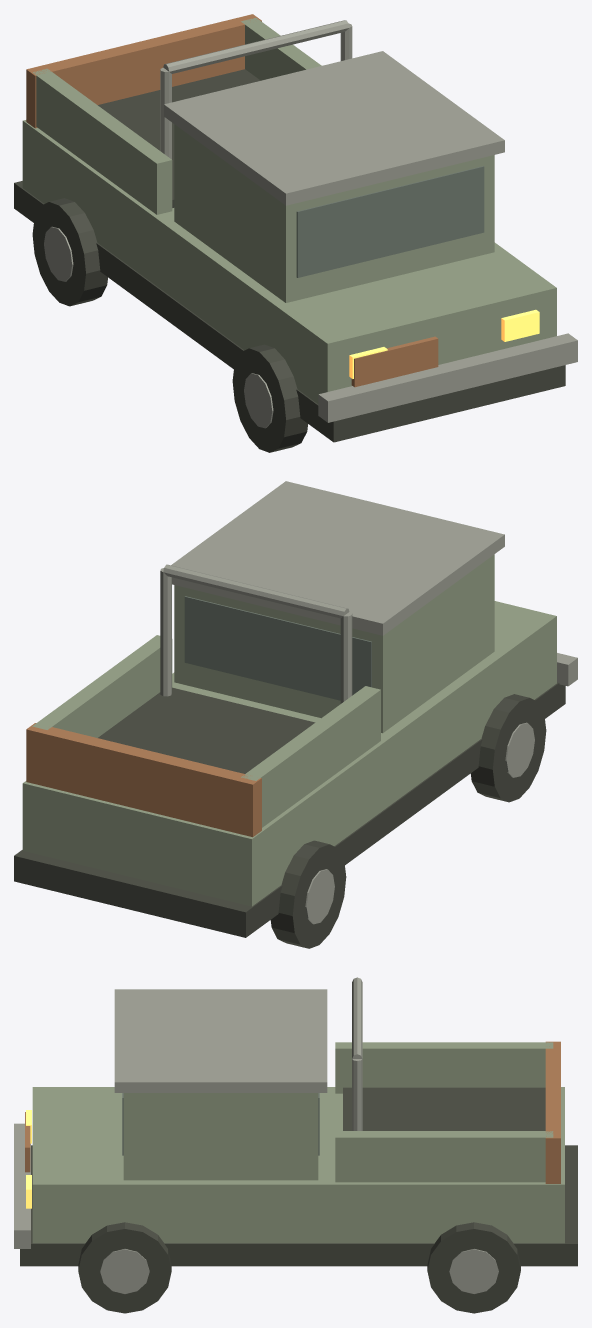
Rendered from reclamation-yard-reclaimed-utility-truck__221.glb.
3 views of the same model, one above another, from view 1: azimuth 30°, elevation 25°; view 2: azimuth 150°, elevation 25°; view 3: azimuth 270°, elevation 25° (orthographic). The views are drawn at different scales.
Parts seen in each view (by area): view 1: shell, metal, dark, glass, accent, light; view 2: shell, metal, dark, accent, glass; view 3: shell, dark, metal, accent.
Part boxes in pixels (bbox=[...]): shell: bbox=[22, 18, 556, 403]; metal: bbox=[44, 20, 577, 428]; dark: bbox=[14, 69, 565, 452]; glass: bbox=[296, 166, 484, 277]; accent: bbox=[26, 14, 438, 387]; light: bbox=[349, 309, 539, 378]; shell: bbox=[22, 554, 556, 906]; metal: bbox=[160, 481, 577, 924]; dark: bbox=[14, 682, 565, 948]; accent: bbox=[26, 723, 261, 837]; glass: bbox=[184, 596, 371, 700]; shell: bbox=[32, 1042, 564, 1243]; dark: bbox=[20, 1087, 577, 1313]; metal: bbox=[14, 977, 498, 1293]; accent: bbox=[25, 1041, 560, 1183].
Bounding box in the file's own units: 2.04 × 2.06 × 4.35.
